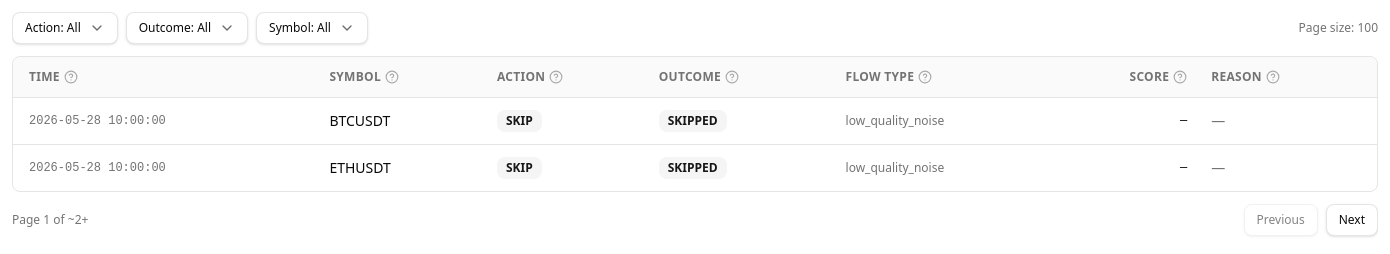
Test: DecisionsFeed — filter changes reset to page 1 › changing the Symbol filter resets cursor stack so page shows 1
# Advance to page 2.
Click the button "Next" at (1352, 220), box [1326,204,1378,236]
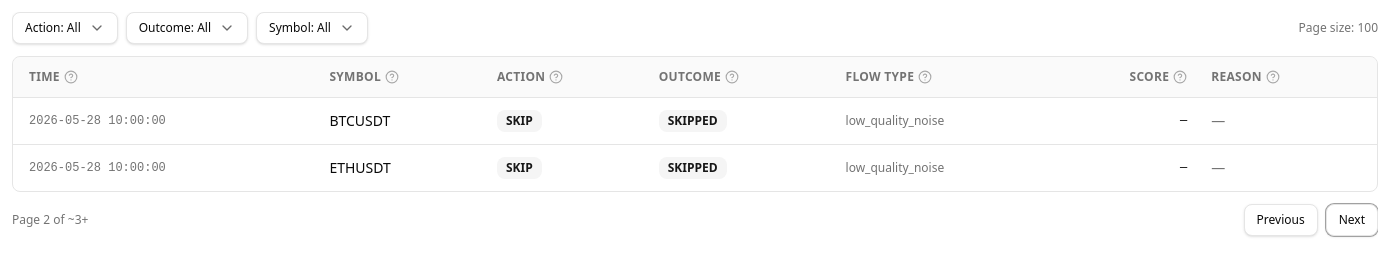
Check: the text "Page 2 of ~3+" is shown, box [12,212,88,228]
Click the button "Symbol: All" at (312, 28), box [256,12,368,44]
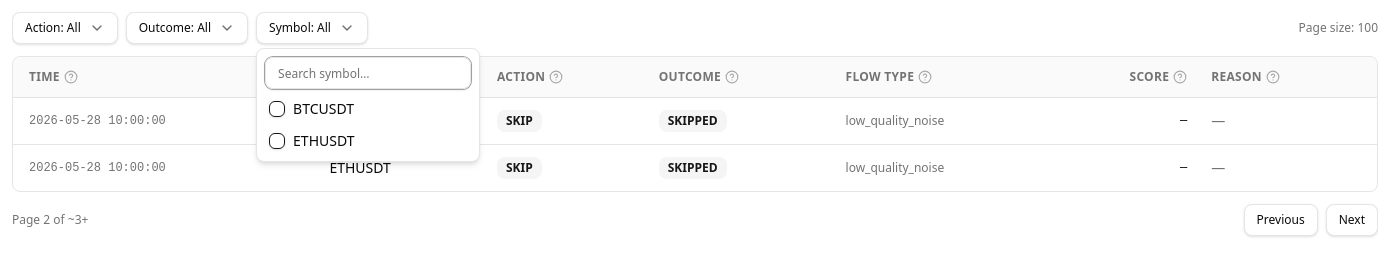
Click the button "BTCUSDT" at (368, 109), box [261,93,475,125]
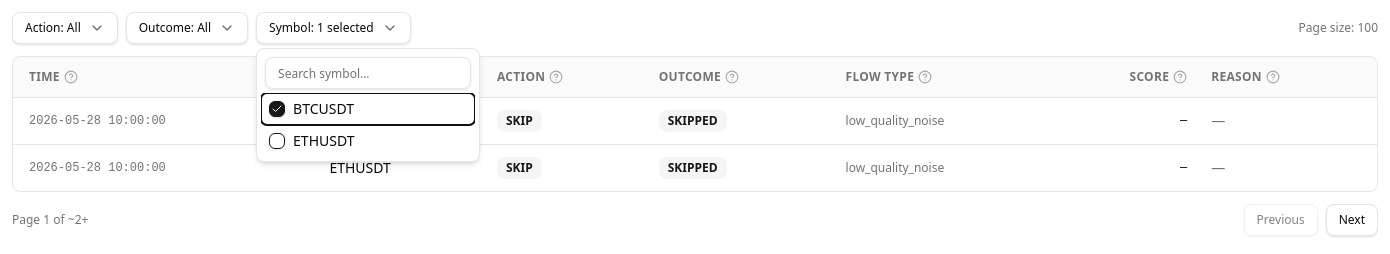
Check: the text "Page 1 of ~2+" is shown, box [12,212,88,228]
